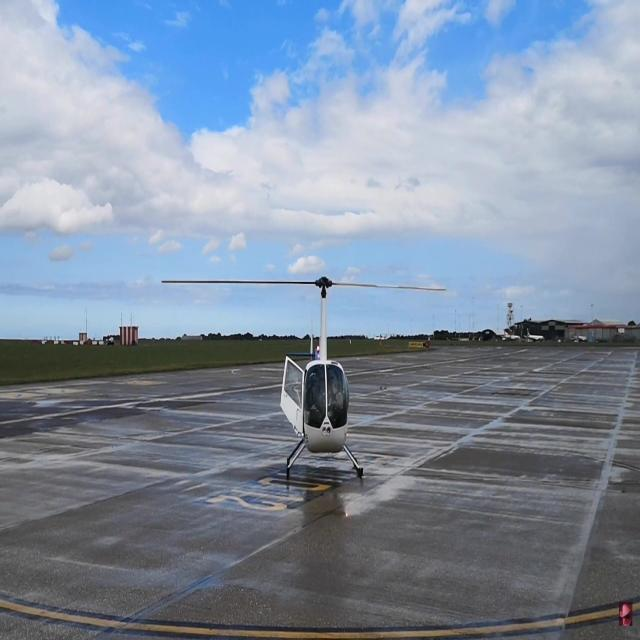CIV_HELO: (278, 273, 364, 481)
